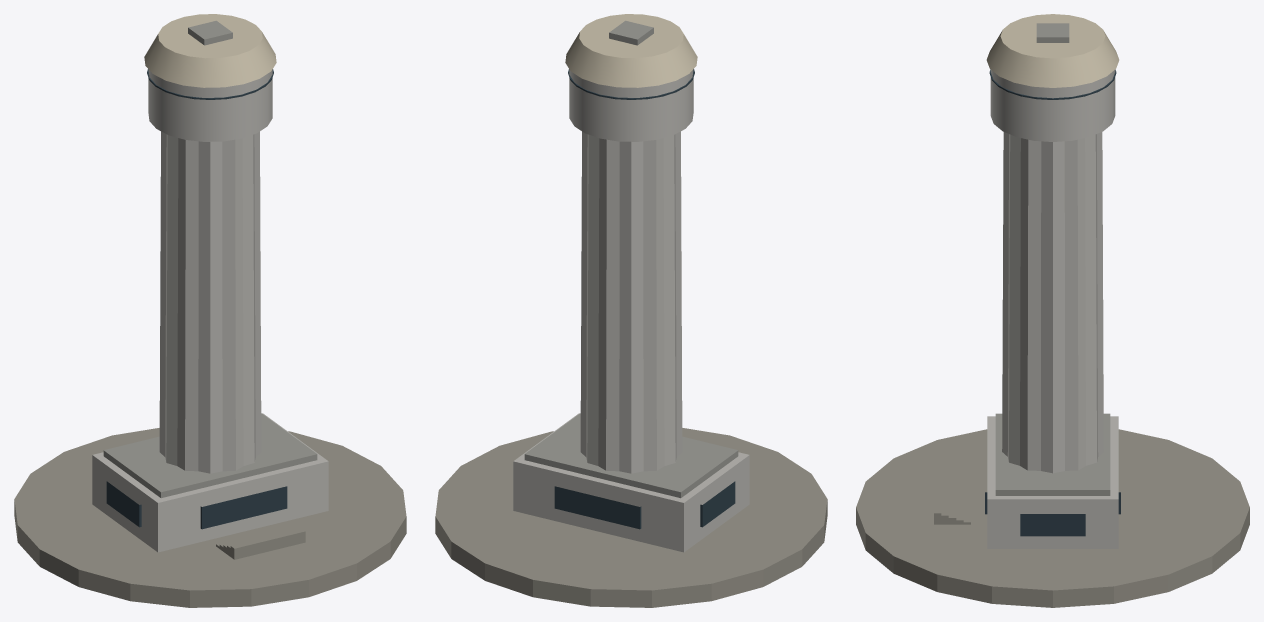
File: desktop.glb
The picture shows the model from 3 angles, left to right: view 1: azimuth 30°, elevation 25°; view 2: azimuth 150°, elevation 25°; view 3: azimuth 270°, elevation 25°; orthographic projection.
Parts seen in each view (by area): view 1: lm.coit-tower; view 2: lm.coit-tower; view 3: lm.coit-tower.
Boxes of the visible parts, x1,y1,x2,y2 form: lm.coit-tower: (14,14,406,607); lm.coit-tower: (435,14,827,607); lm.coit-tower: (856,14,1249,607).
Size of the model in its own units: 48 by 66.5 by 48.
